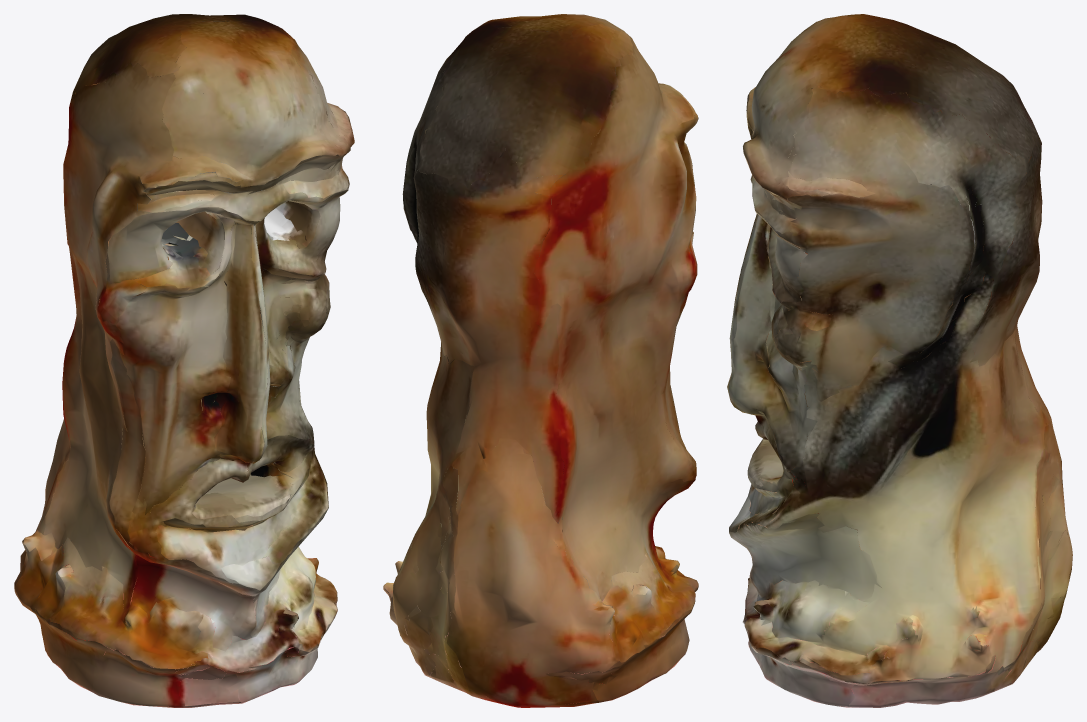
The picture shows the model from 3 angles, left to right: view 1: azimuth 30°, elevation 25°; view 2: azimuth 150°, elevation 25°; view 3: azimuth 270°, elevation 25°; orthographic projection. The views are drawn at different scales.
Parts seen in each view (by area): view 1: geometry_0.001; view 2: geometry_0.001; view 3: geometry_0.001.
Part boxes in pixels (x1,y1,x2,y2): geometry_0.001: (14,14,354,707); geometry_0.001: (383,14,698,707); geometry_0.001: (727,14,1072,707).
Bounding box in the file's own units: 0.8602 × 2 × 0.9894.
1 material, 1 textured.
